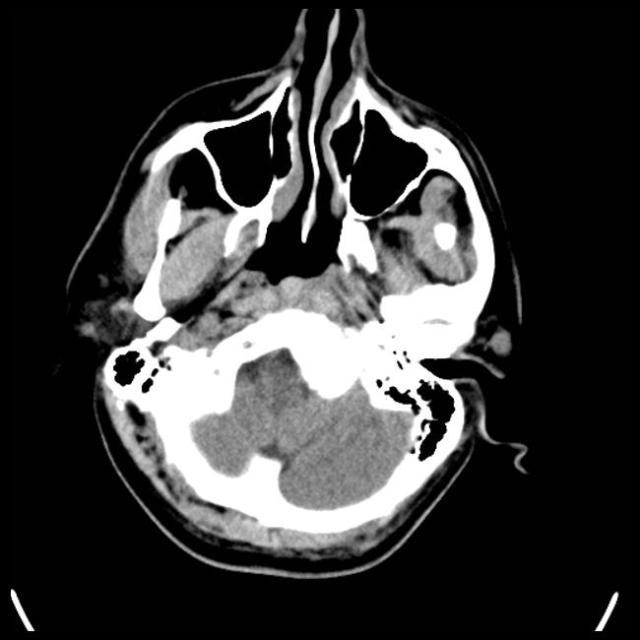lesion: (65, 8, 534, 579)
